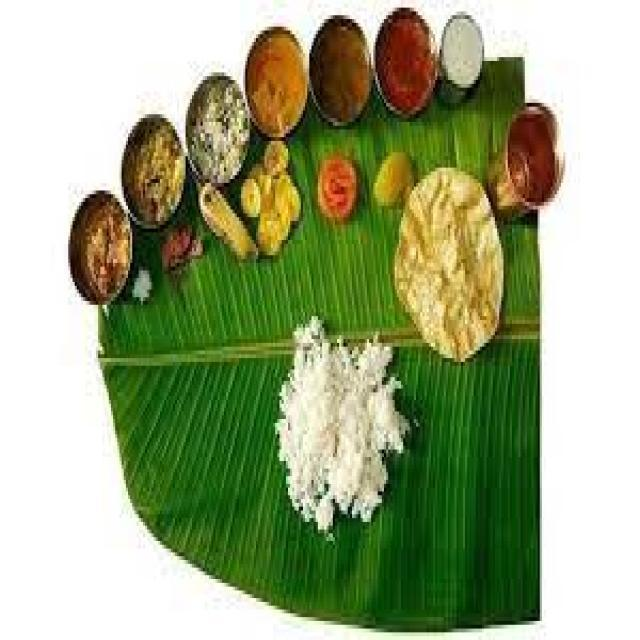dal: (248, 33, 311, 140)
papad: (391, 166, 505, 355)
raita: (441, 7, 486, 100)
rice: (265, 299, 424, 550)
sambar-rasam: (312, 20, 373, 129)
sweet: (314, 152, 358, 222)
veg: (68, 199, 134, 310)
